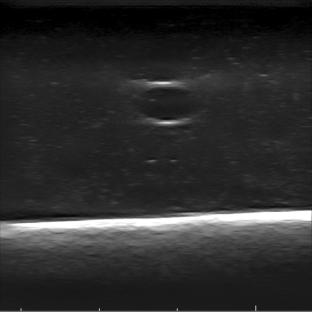vessel: (132, 80, 205, 126)
